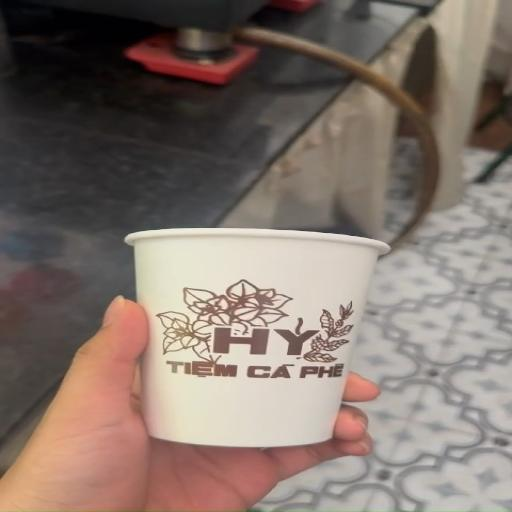Ly_giay: (126, 228, 388, 448)
